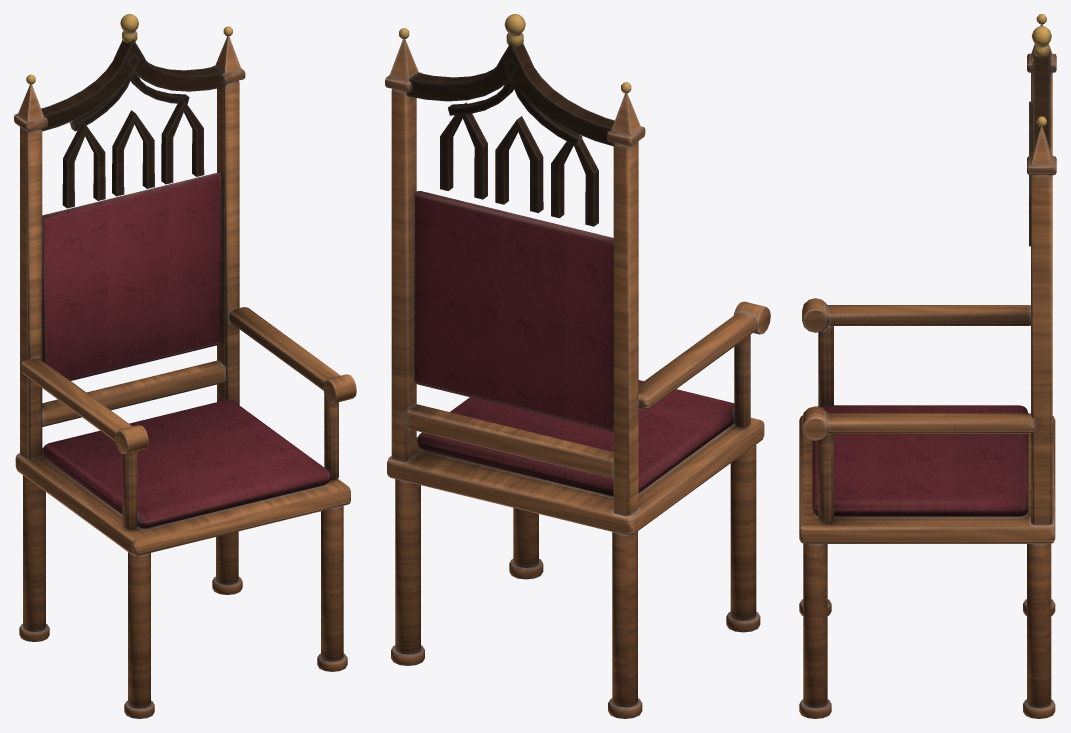
The model's file is TeacherChair.fbx.
3 views of the same model, side by side, from view 1: azimuth 30°, elevation 25°; view 2: azimuth 150°, elevation 25°; view 3: azimuth 270°, elevation 25° (orthographic). The views are drawn at different scales.
Parts seen in each view (by area): view 1: TeacherChair; view 2: TeacherChair; view 3: TeacherChair.
Part boxes in pixels (x1,y1,x2,y2): TeacherChair: (14, 14, 356, 718); TeacherChair: (385, 14, 770, 718); TeacherChair: (799, 14, 1056, 718).
Size of the model in its own units: 210 by 521 by 191.
